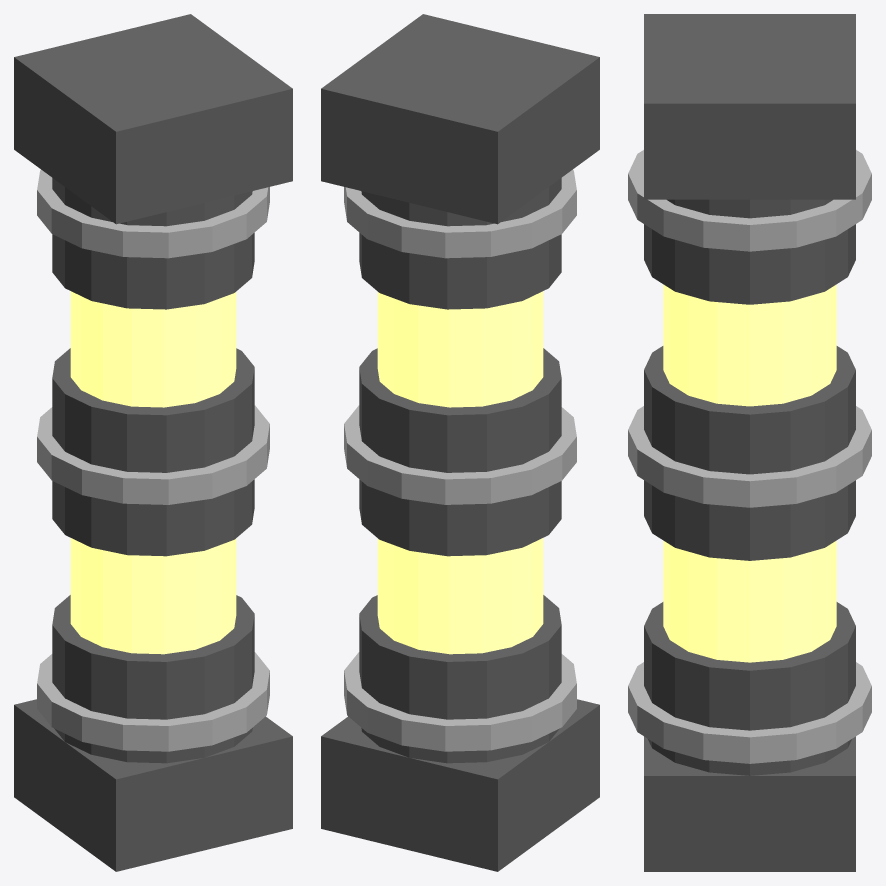
File: pillarb3.fbx
The picture shows the model from 3 angles, left to right: view 1: azimuth 30°, elevation 25°; view 2: azimuth 150°, elevation 25°; view 3: azimuth 270°, elevation 25°; orthographic projection. The views are drawn at different scales.
Visible parts, largest first — view 1: Cube.011; view 2: Cube.011; view 3: Cube.011.
Boxes of the visible parts, x1,y1,x2,y2 form: Cube.011: [14, 14, 292, 871]; Cube.011: [321, 14, 599, 871]; Cube.011: [628, 14, 871, 871].
Bounding box in the file's own units: 0.575 × 2 × 0.575.
